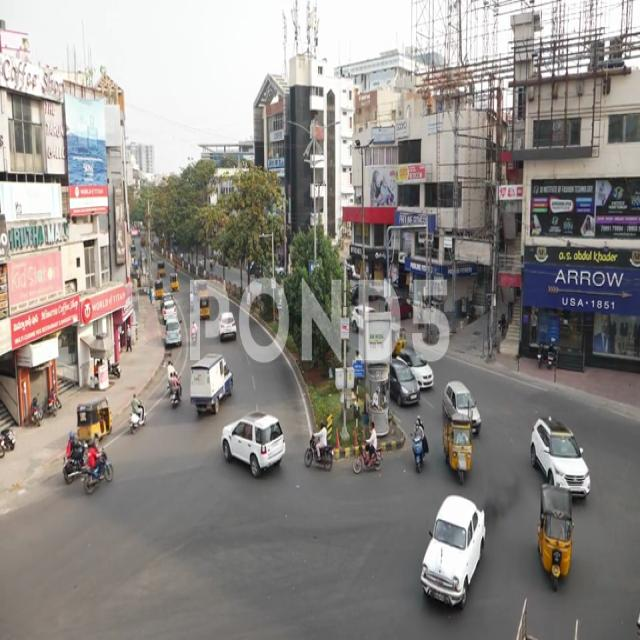cab: (422, 493, 487, 615)
car: (222, 413, 285, 482)
motorbike: (82, 443, 110, 495), (127, 392, 148, 436)
rikshaw: (542, 489, 572, 592)
truck: (188, 364, 237, 408), (443, 416, 474, 484)
